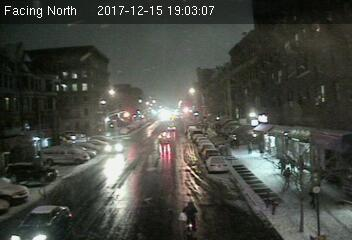bicycle: (178, 200, 201, 237)
car: (9, 204, 73, 240), (206, 156, 229, 173), (104, 140, 125, 153), (158, 132, 172, 143)
